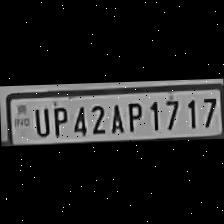1: (142, 98, 162, 132), (180, 94, 198, 128)
2: (86, 100, 106, 134)
4: (68, 100, 88, 136)
7: (196, 93, 218, 128), (160, 96, 180, 130)
A: (105, 99, 124, 134)
P: (122, 98, 144, 132), (48, 102, 68, 136)
U: (29, 104, 50, 138)
